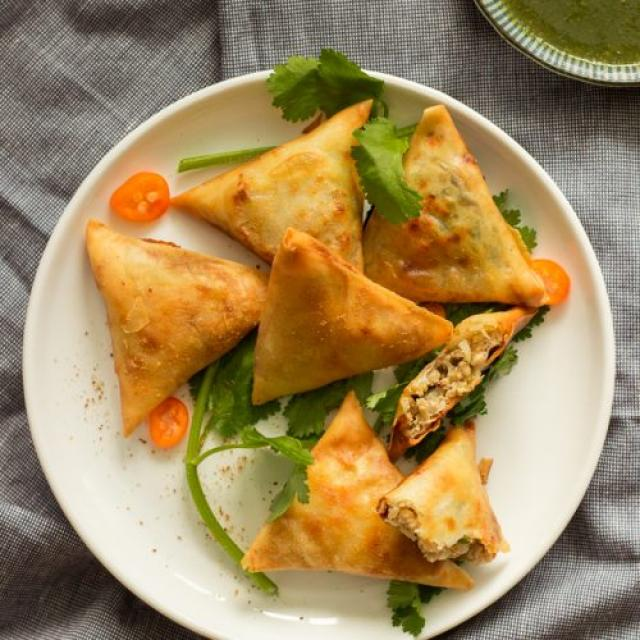samosa: (63, 104, 576, 626)
